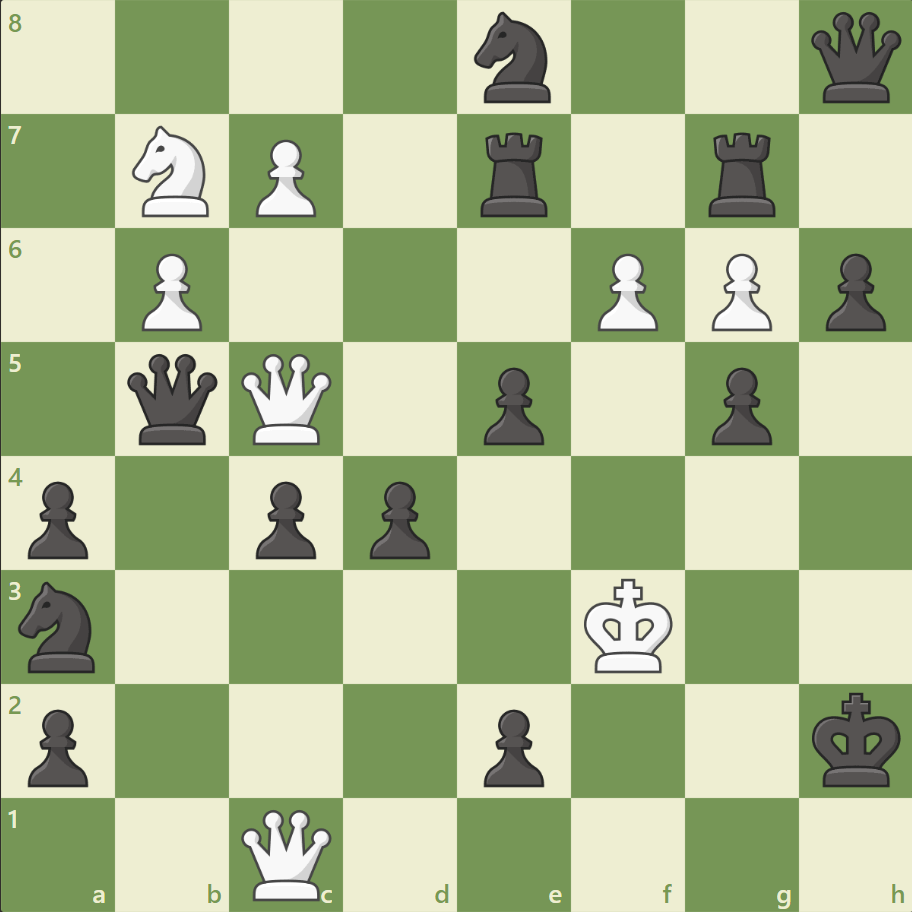K: (579, 571, 679, 679)
N: (124, 121, 222, 223)
P: (247, 132, 322, 223), (133, 246, 208, 337), (701, 246, 776, 337), (588, 246, 662, 337)
Q: (237, 349, 336, 449), (237, 804, 336, 903)
k: (806, 685, 906, 793)
n: (465, 7, 562, 110), (11, 575, 108, 677)
p: (474, 359, 549, 450), (701, 359, 776, 450), (20, 473, 95, 564), (247, 473, 322, 564), (20, 700, 95, 791), (474, 700, 549, 791), (815, 246, 889, 337), (361, 473, 435, 564)
q: (124, 349, 223, 449), (805, 9, 904, 108)
r: (473, 125, 556, 222), (700, 125, 783, 222)
